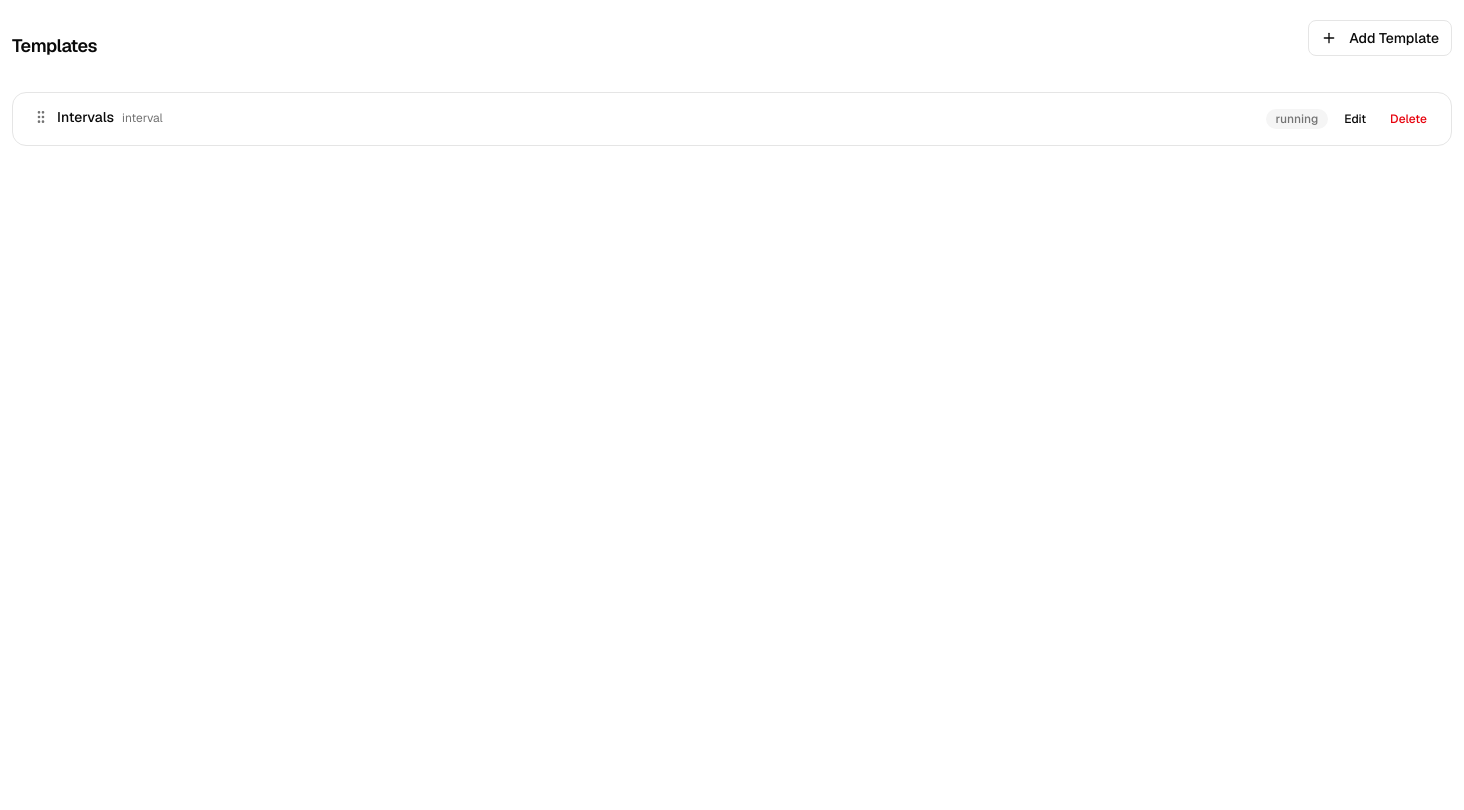
Test: TemplateSection — distance/duration inline edit (T129) › shows "(per rep)" suffix in inline edit when run_type is interval
The image size is (1464, 810).
Click the button "Edit".
click(1355, 119)  # box [1336,105,1374,133]
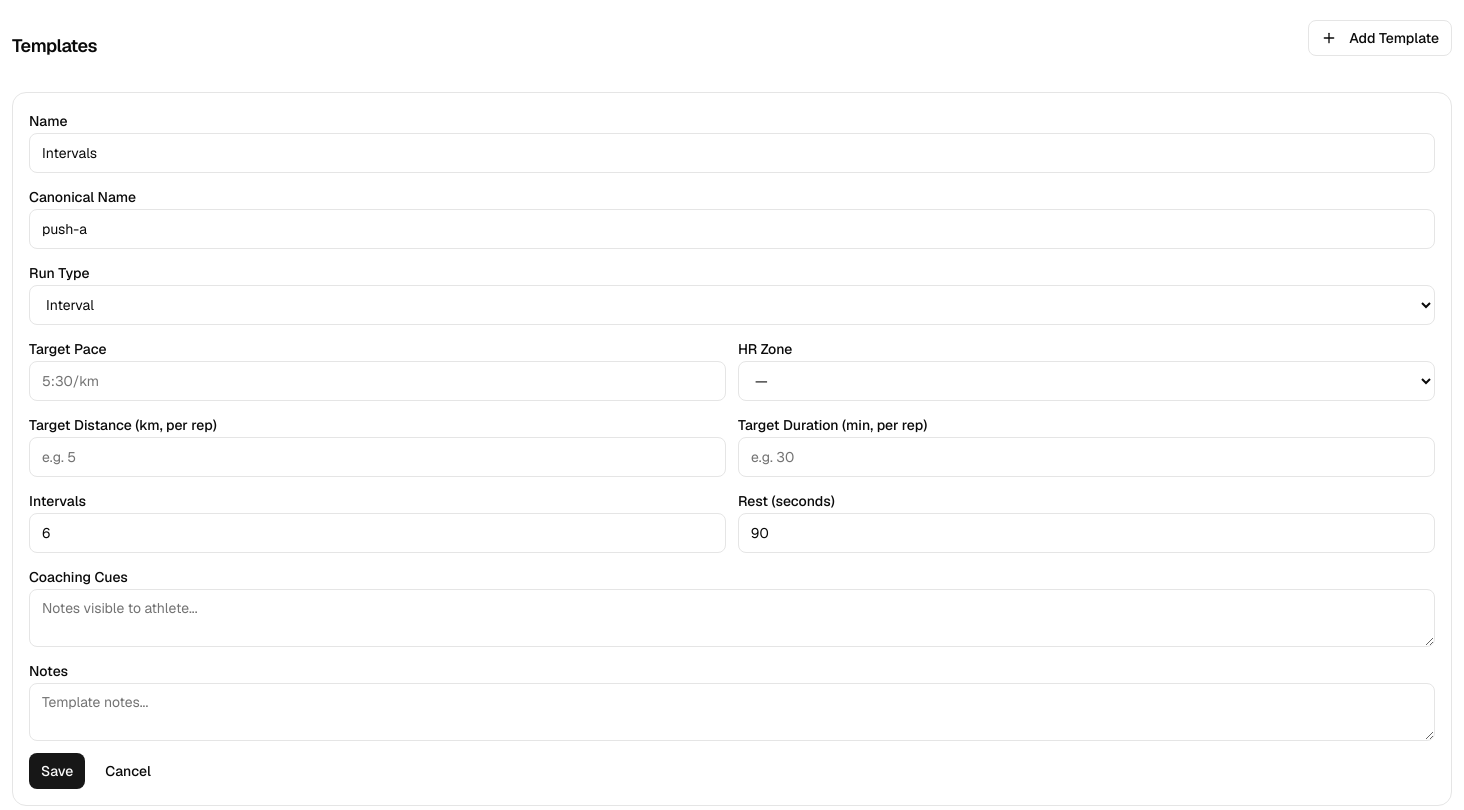
Check: the field labelled "Target Distance (km, per rep)" is shown, box [29,437,726,477]
Check: the field labelled "Target Duration (min, per rep)" is shown, box [738,437,1435,477]
